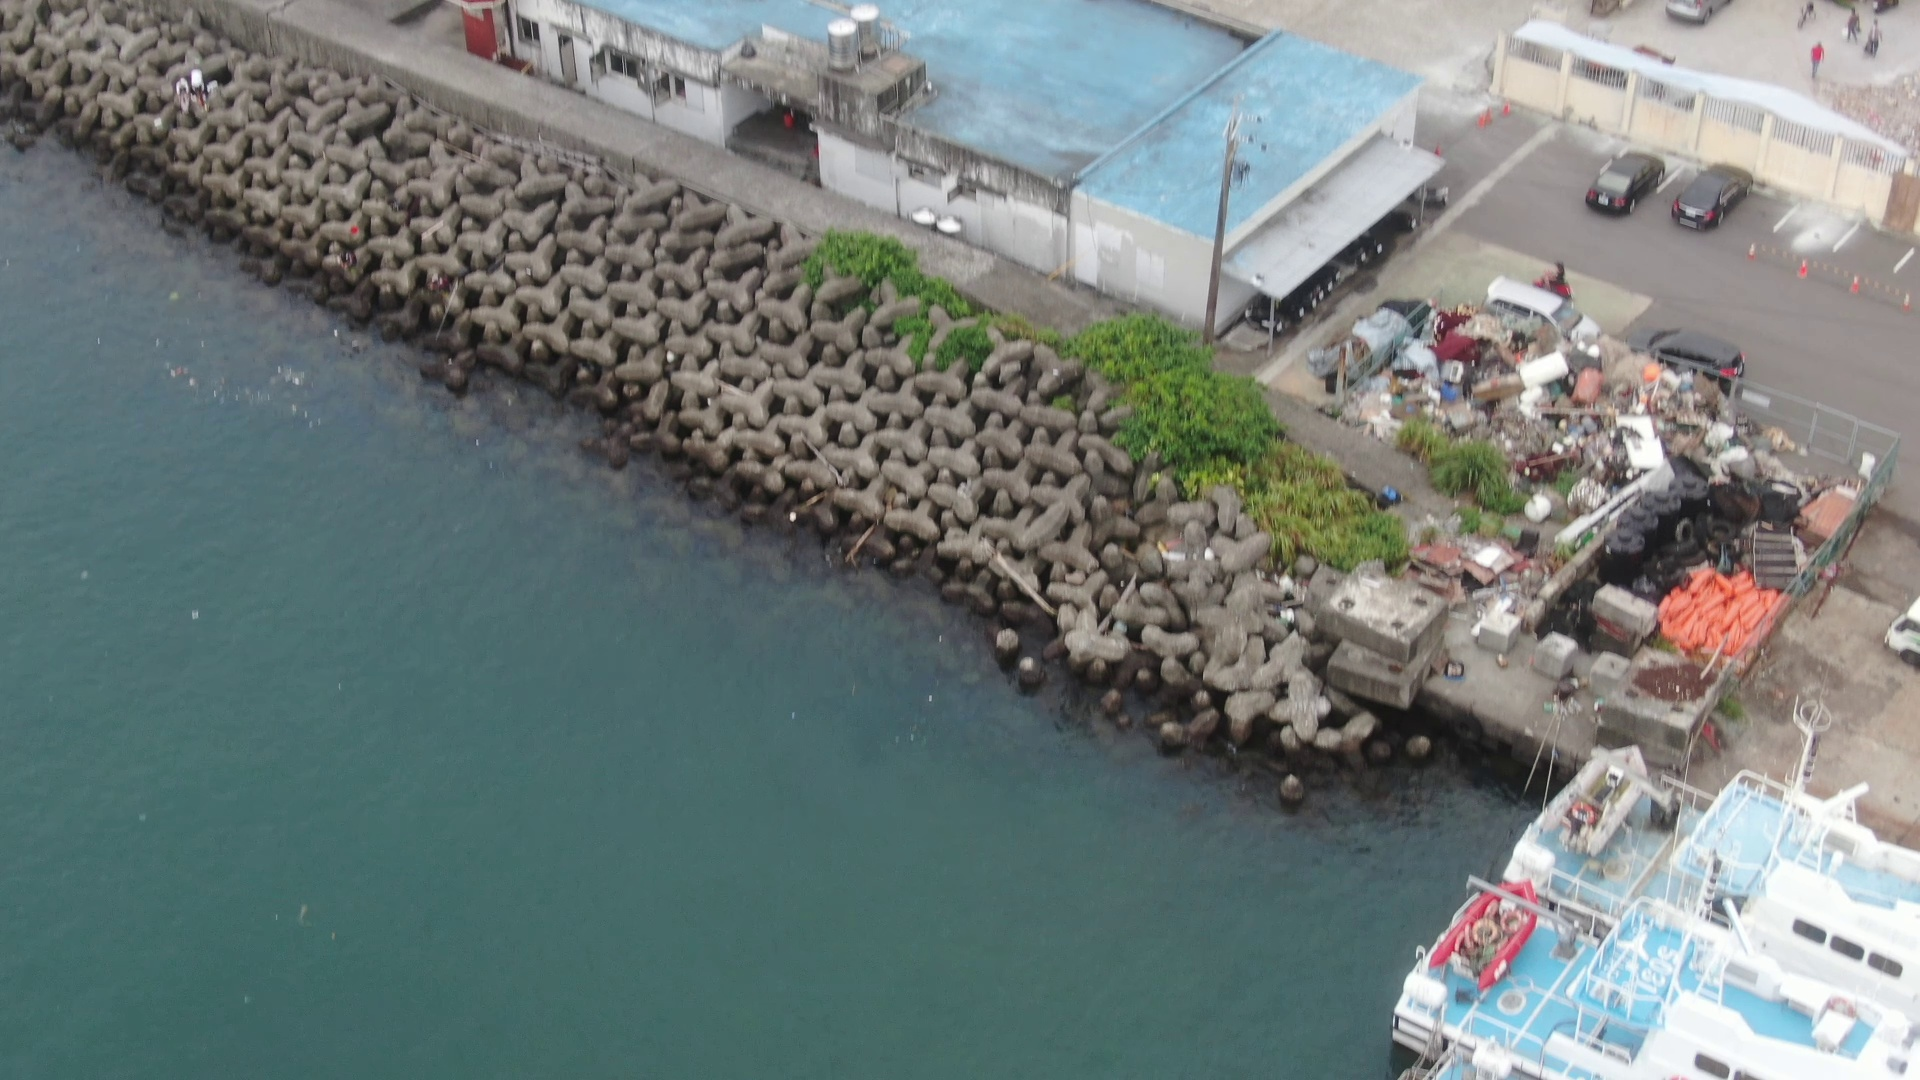garbage: (1362, 293, 1836, 655), (161, 63, 222, 111)
